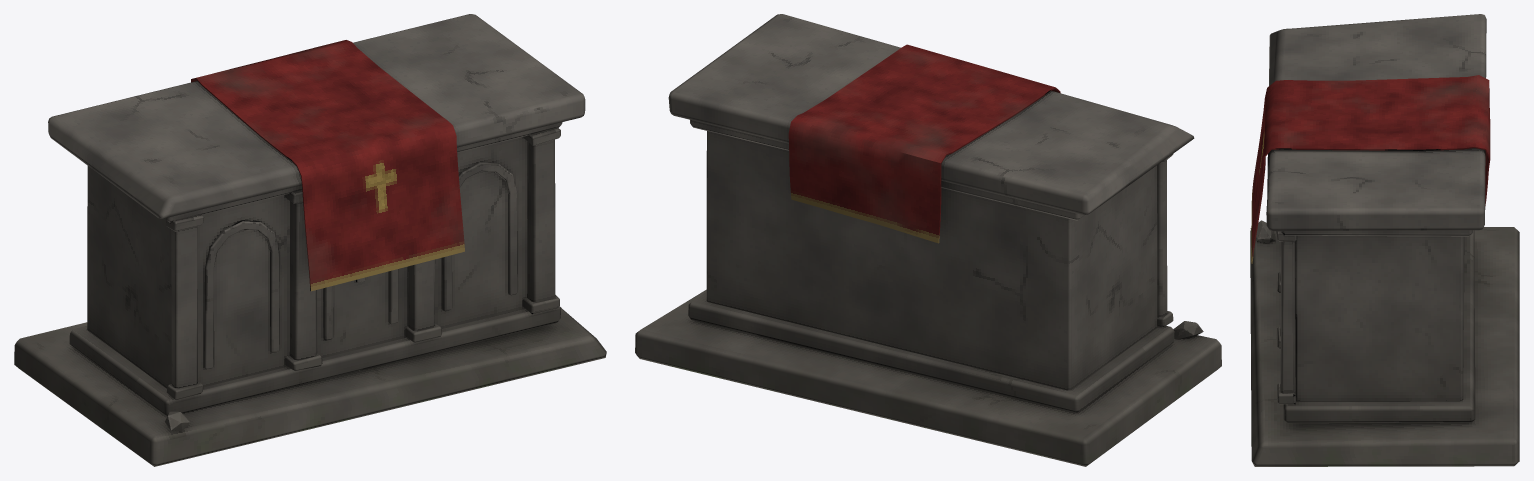
File: altar.glb
The picture shows the model from 3 angles, left to right: view 1: azimuth 30°, elevation 25°; view 2: azimuth 150°, elevation 25°; view 3: azimuth 270°, elevation 25°; orthographic projection. The views are drawn at different scales.
Parts seen in each view (by area): view 1: Altar; view 2: Altar; view 3: Altar.
Part boxes in pixels (x1,y1,x2,y2): Altar: (14, 14, 606, 466); Altar: (635, 14, 1221, 466); Altar: (1250, 14, 1519, 466).
Bounding box in the file's own units: 1.86 × 1.03 × 0.9812.
Materials: 1 (1 with a texture image).
